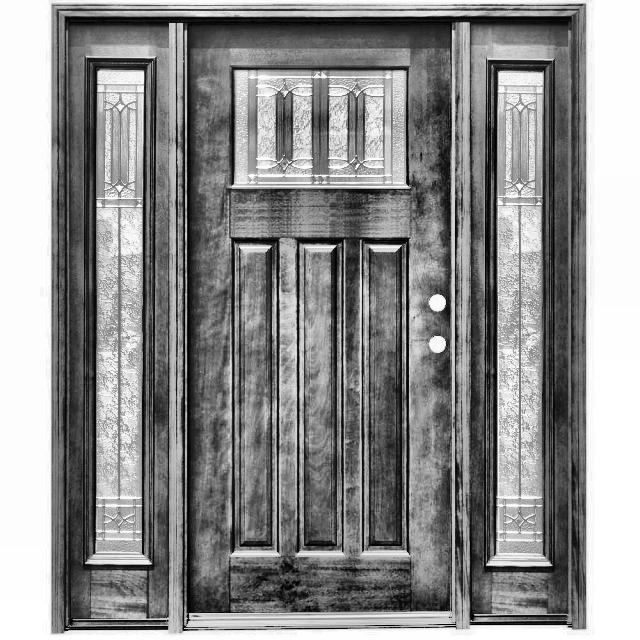door: (51, 2, 606, 625)
